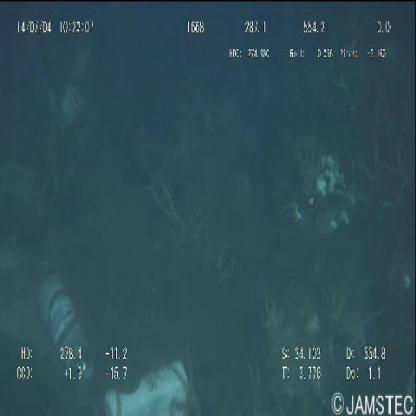Rác: (104, 358, 190, 415)
